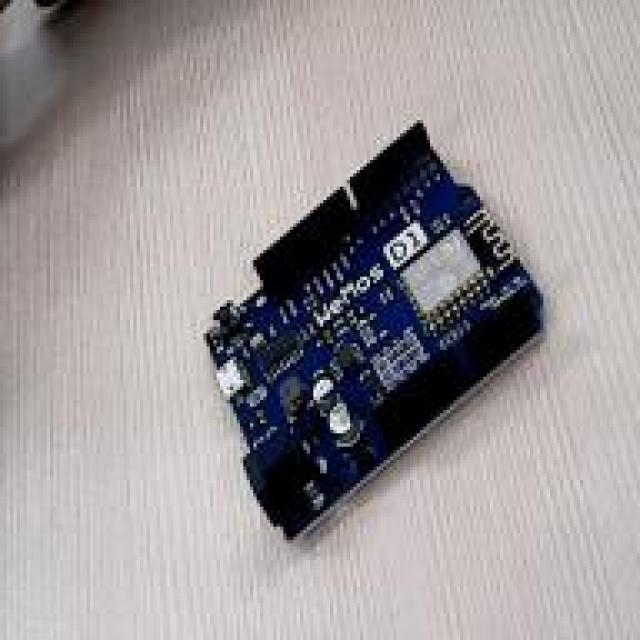Wemos: (204, 124, 541, 538)
